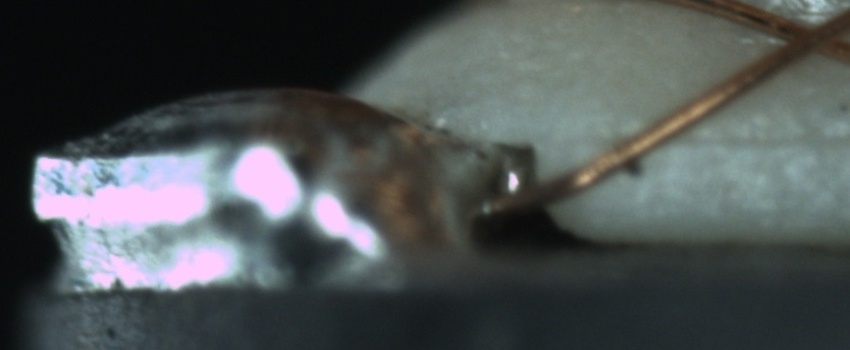CL: (765, 5, 847, 65)
DL: (609, 103, 848, 173)
